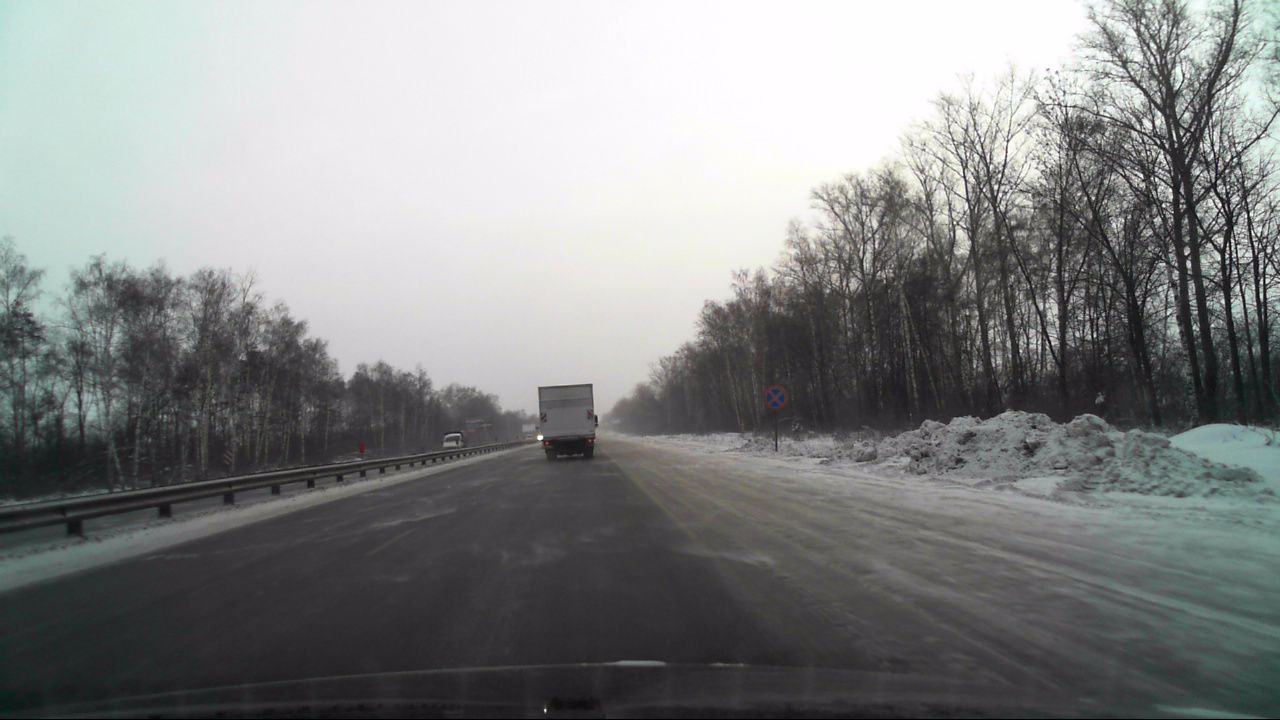No Parking: (764, 384, 788, 411)
